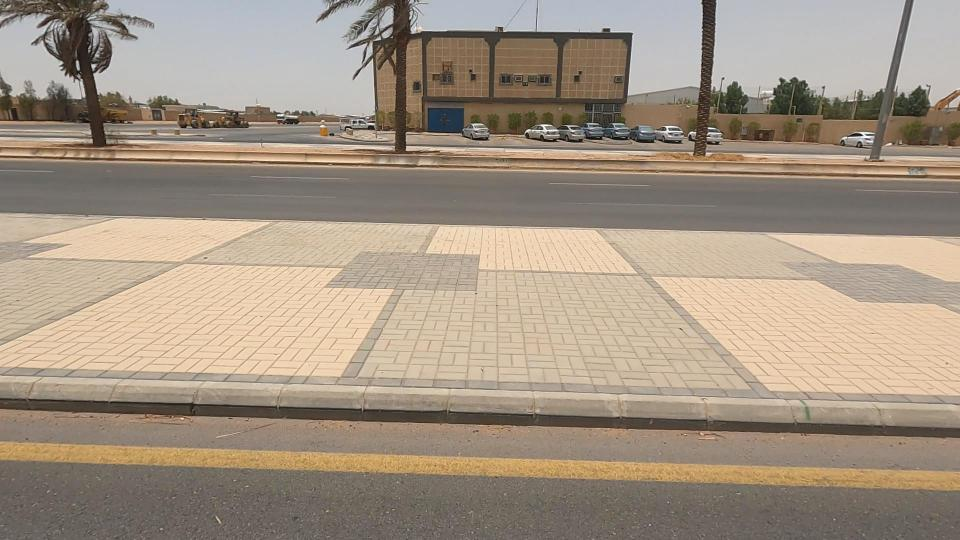CLUTTER_SIDEWALK: (84, 120, 393, 177), (410, 128, 678, 185), (687, 127, 901, 190)
